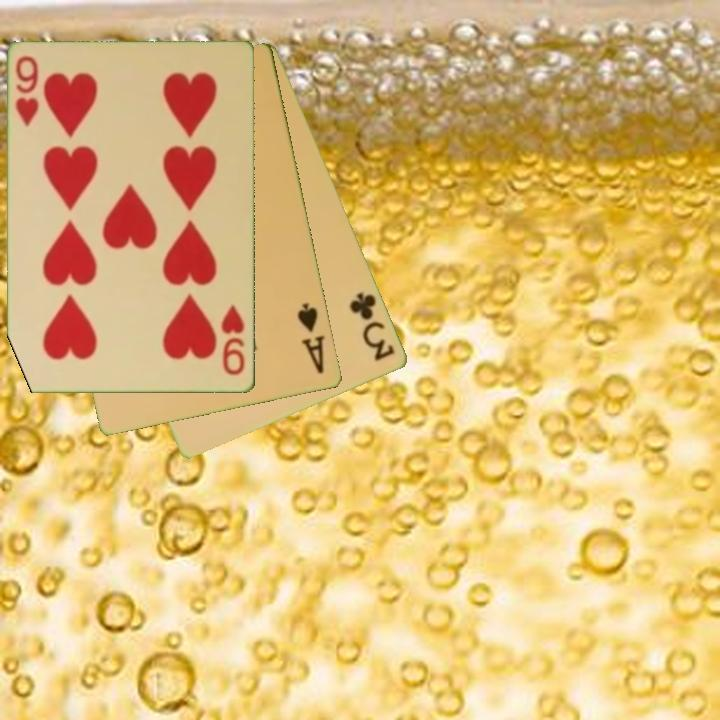3c: (346, 289, 398, 365)
9h: (12, 53, 42, 131), (218, 302, 248, 378)
As: (294, 299, 328, 377)
